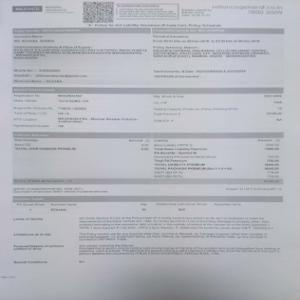image: (11, 4, 45, 13)
table: (11, 197, 286, 268), (11, 26, 287, 87), (12, 87, 282, 133), (13, 133, 283, 179)
text: (213, 2, 285, 17)
